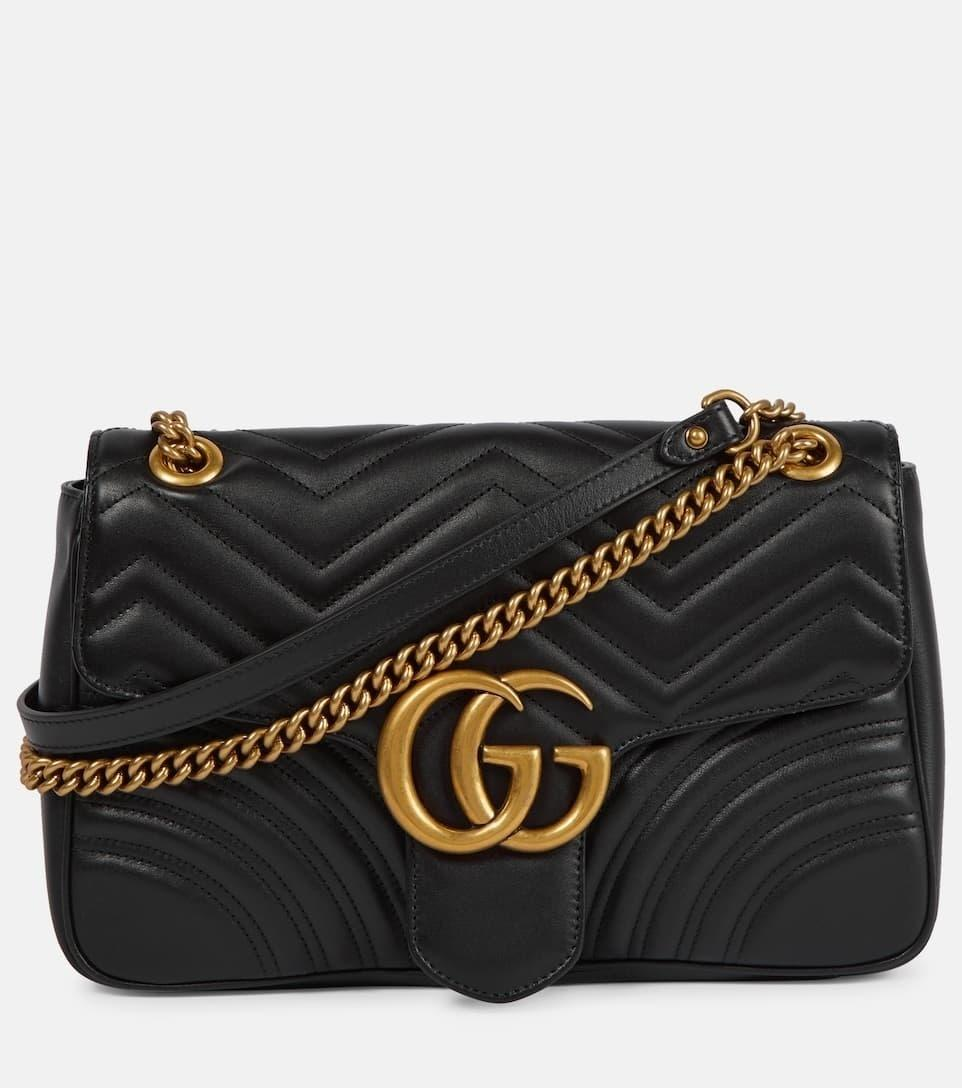GUCCI: (376, 669, 612, 855)
